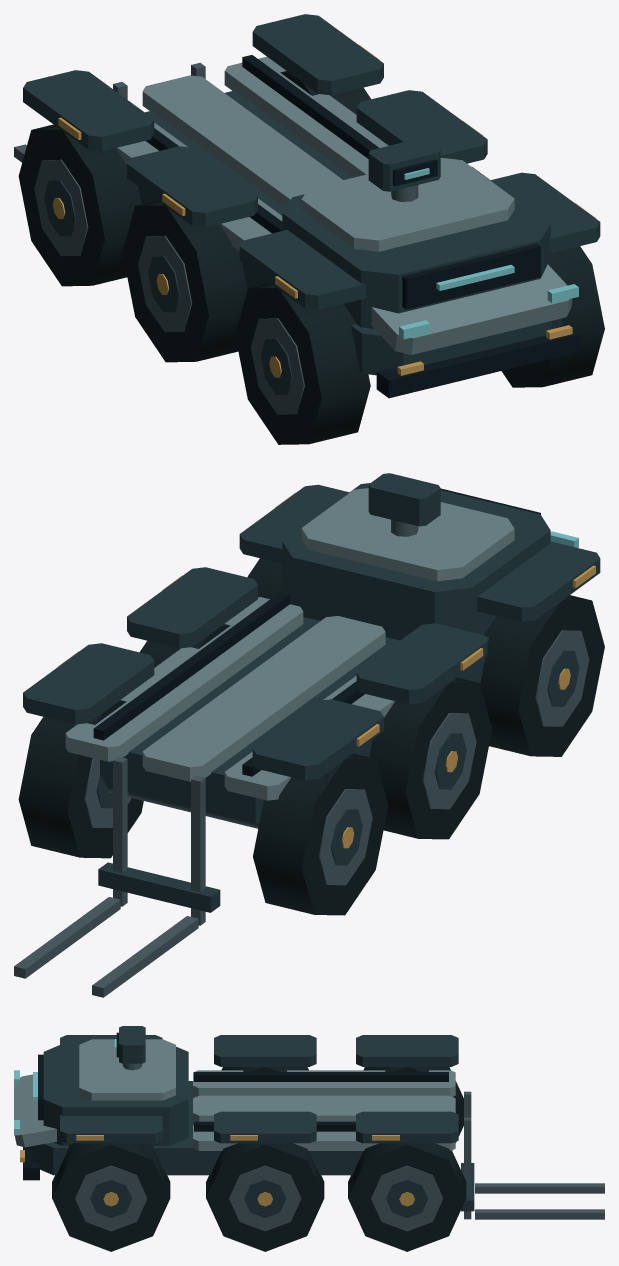
Rendered from hauler_d0_lod2.glb.
3 renders of one model, top to bottom at view 1: azimuth 30°, elevation 25°; view 2: azimuth 150°, elevation 25°; view 3: azimuth 270°, elevation 25°, orthographic. The views are drawn at different scales.
Parts seen in each view (by area): view 1: DISTANCE_STATIC; view 2: DISTANCE_STATIC; view 3: DISTANCE_STATIC.
Part boxes in pixels (x1,y1,x2,y2): DISTANCE_STATIC: [14, 14, 604, 444]; DISTANCE_STATIC: [14, 473, 604, 997]; DISTANCE_STATIC: [14, 1026, 604, 1251].
Bounding box in the file's own units: 3.93 × 3.09 × 9.79.
